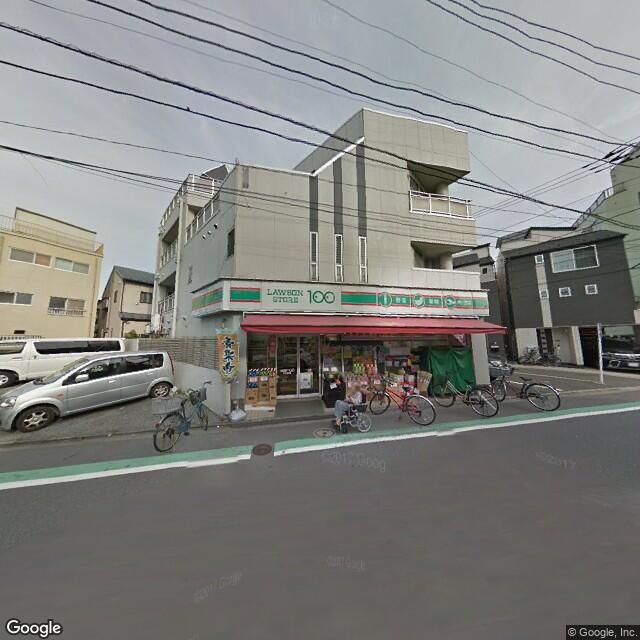lawson: (184, 279, 495, 324)
